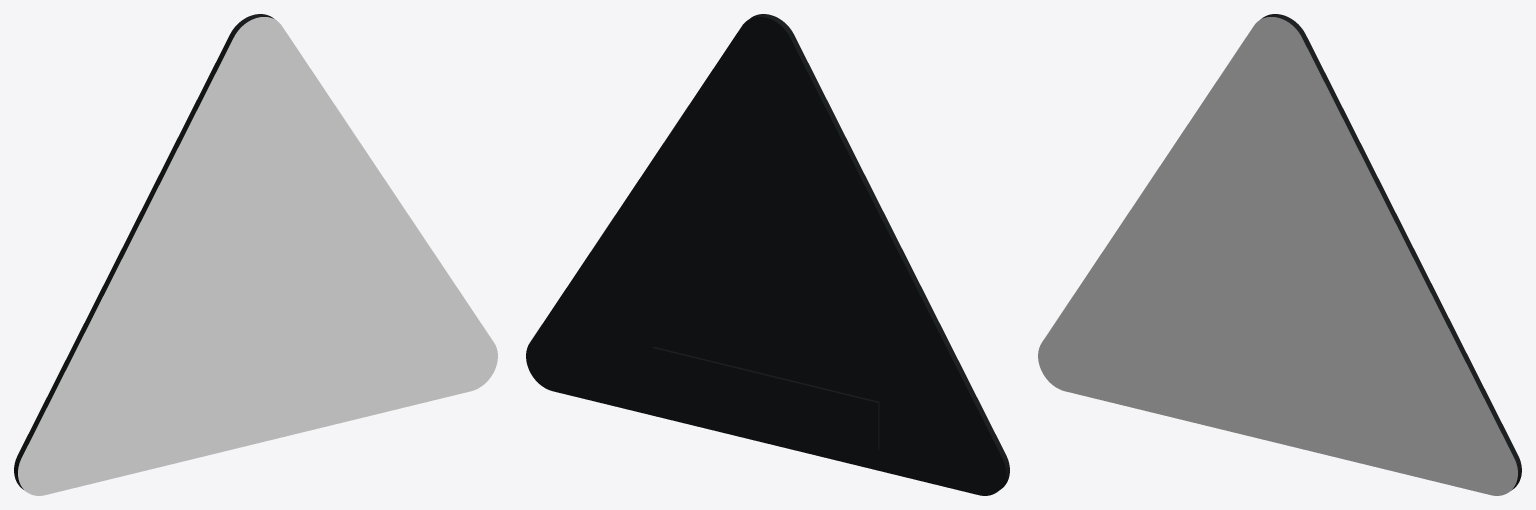
File: model_roadSign (8).FBX
The picture shows the model from 3 angles, left to right: view 1: azimuth 30°, elevation 25°; view 2: azimuth 150°, elevation 25°; view 3: azimuth 330°, elevation 25°; orthographic projection.
Visible parts, largest first — view 1: Sign, SignCorpus; view 2: SignCorpus; view 3: Sign, SignCorpus.
Part boxes in pixels (bbox=[...]): Sign: bbox=[18, 17, 497, 495]; SignCorpus: bbox=[14, 14, 273, 489]; SignCorpus: bbox=[526, 14, 1009, 495]; Sign: bbox=[1038, 17, 1517, 495]; SignCorpus: bbox=[1260, 14, 1521, 490].
Size of the model in its own units: 85.06 by 72.08 by 1.66.
